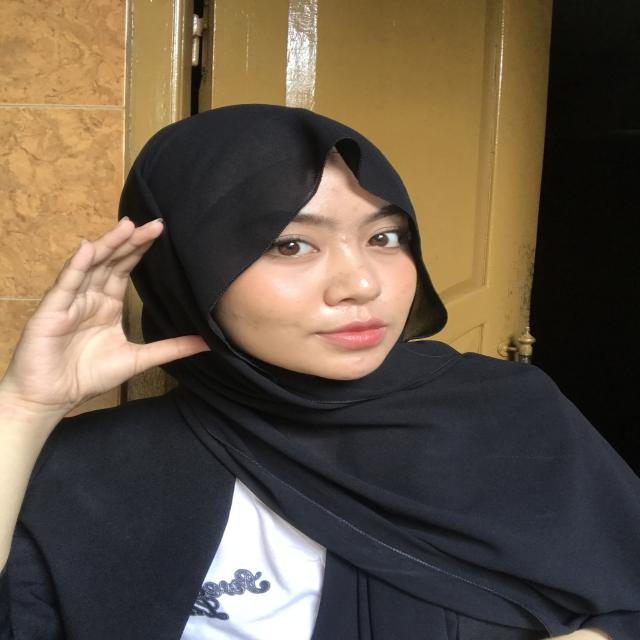mendengar: (9, 191, 238, 402)
